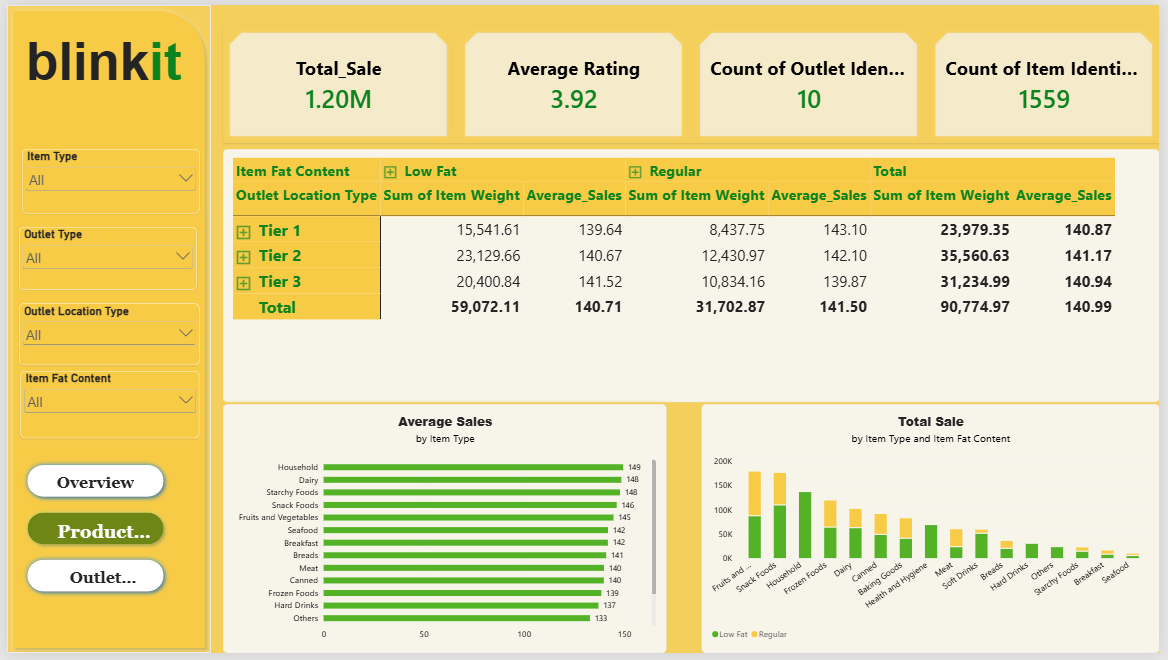

What the dashboard file says about the page in this screenshot:
{"tool":"powerbi","page":{"name":"Product Analysis","canvas":[1920,1080],"ordinal":1},"visuals":[{"type":"group","id":"g1","title":"Group 5","box":[0,0,338.8,1080.8],"z":0,"group":"g2"},{"type":"pivotTable","fields":{"Rows":["BlinkIT Grocery Data.Outlet Location Type","BlinkIT Grocery Data.Item Type","BlinkIT Grocery Data.Outlet Establishment Year"],"Columns":["BlinkIT Grocery Data.Item Fat Content","BlinkIT Grocery Data.Outlet Type"],"Values":["Sum(BlinkIT Grocery Data.Item Weight)","DAX Measure.Average_Sales"]},"box":[360.3,241,1560.4,422.3],"z":0},{"type":"group","id":"g2","title":"Group 6","box":[0,0,338.8,1080.8],"z":1000},{"type":"group","id":"g3","title":"Group 4","box":[19.5,241,301.4,481.9],"z":1000,"group":"g2"},{"type":"pageNavigator","box":[26.2,756.3,245.7,229],"z":2000},{"type":"cardVisual","fields":{"Data":["DAX Measure.Total_Sale","DAX Measure.Average_Rating","Count(BlinkIT Grocery Data.Outlet Identifier)","Count(BlinkIT Grocery Data.Item Identifier)"]},"box":[360.3,35.8,1560.4,195.6],"z":3000},{"type":"slicer","fields":{"Values":["BlinkIT Grocery Data.Item Type"]},"box":[25.1,241,295.9,107.4],"z":3000,"group":"g3"},{"type":"slicer","fields":{"Values":["BlinkIT Grocery Data.Outlet Type"]},"box":[20.3,372.2,295.9,105],"z":4000,"group":"g3"},{"type":"lineStackedColumnComboChart","title":"Total Sale","fields":{"Category":["BlinkIT Grocery Data.Item Type"],"Series":["BlinkIT Grocery Data.Item Fat Content"],"Y":["DAX Measure.Total_Sale"]},"box":[1157.2,665.7,763.5,415.1],"z":4000},{"type":"slicer","fields":{"Values":["BlinkIT Grocery Data.Outlet Location Type"]},"box":[19.5,498.6,300.6,102.6],"z":5000,"group":"g3"},{"type":"slicer","fields":{"Values":["BlinkIT Grocery Data.Item Fat Content"]},"box":[22.7,610.7,298.2,112.1],"z":6000,"group":"g3"},{"type":"barChart","title":"Average Sales","fields":{"Y":["DAX Measure.Average_Sales"],"Category":["BlinkIT Grocery Data.Item Type"]},"box":[360.3,665.7,739.6,415.1],"z":6000},{"type":"shape","box":[0,0,338.8,1080.8],"z":11002,"group":"g1"},{"type":"textbox","box":[0,45.3,322.1,109.8],"z":11503,"group":"g1"}]}

Visuals, with their boxes in screenshot pixels (x1, y1, x2, y2), scaled from the page's 1920x1080 canvas onto the 1168x660 screenshot:
"Group 5" group: 0/0/206/659
pivotTable - BlinkIT Grocery Data.Outlet Location Type x BlinkIT Grocery Data.Item Type: 219/147/1167/405
"Group 6" group: 0/0/206/659
"Group 4" group: 12/147/195/442
pageNavigator: 16/462/165/602
cardVisual - DAX Measure.Total_Sale x DAX Measure.Average_Rating: 219/22/1167/141
slicer - BlinkIT Grocery Data.Item Type: 15/147/195/213
slicer - BlinkIT Grocery Data.Outlet Type: 12/227/192/292
"Total Sale" lineStackedColumnComboChart: 704/407/1167/659
slicer - BlinkIT Grocery Data.Outlet Location Type: 12/305/195/367
slicer - BlinkIT Grocery Data.Item Fat Content: 14/373/195/442
"Average Sales" barChart: 219/407/669/659
shape: 0/0/206/659
textbox: 0/28/196/95
